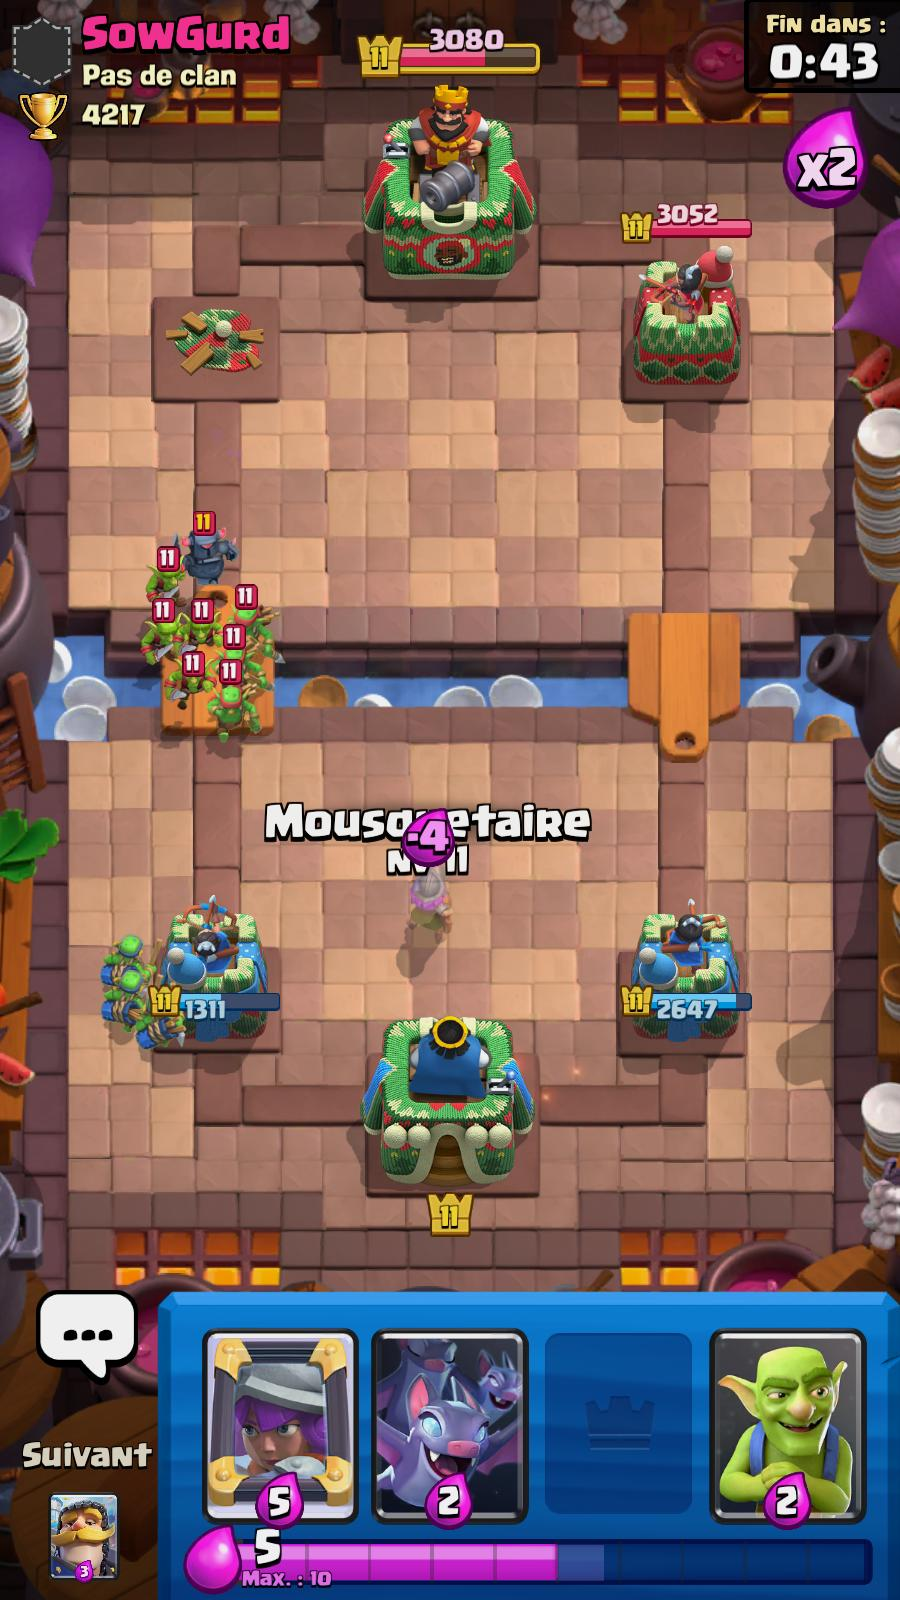gobelin: (166, 653, 215, 709), (144, 599, 185, 664), (144, 548, 188, 600), (184, 601, 225, 646)
gobelin_lances: (210, 665, 265, 746), (103, 970, 160, 1031), (227, 586, 278, 647), (213, 634, 263, 693), (142, 998, 185, 1051), (112, 934, 154, 986)
mini_PEKKA: (171, 514, 241, 588)
mousquetaire: (408, 866, 456, 937)
